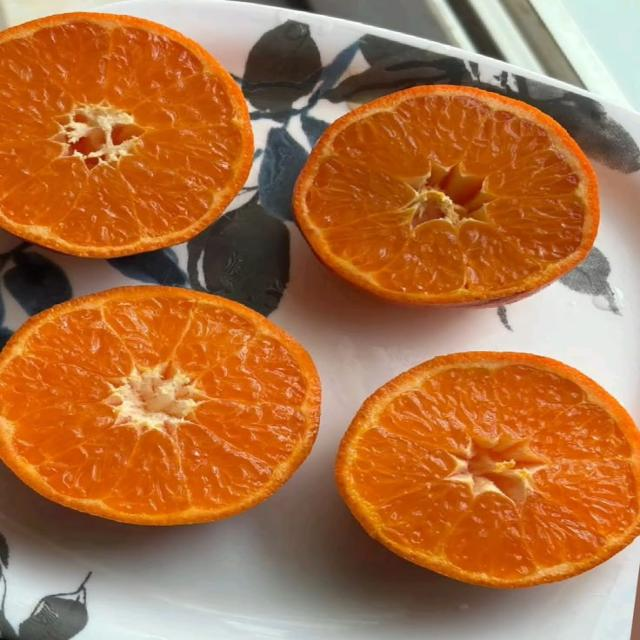orange: (0, 286, 320, 525), (336, 353, 639, 587), (294, 86, 599, 305), (0, 14, 253, 257)
